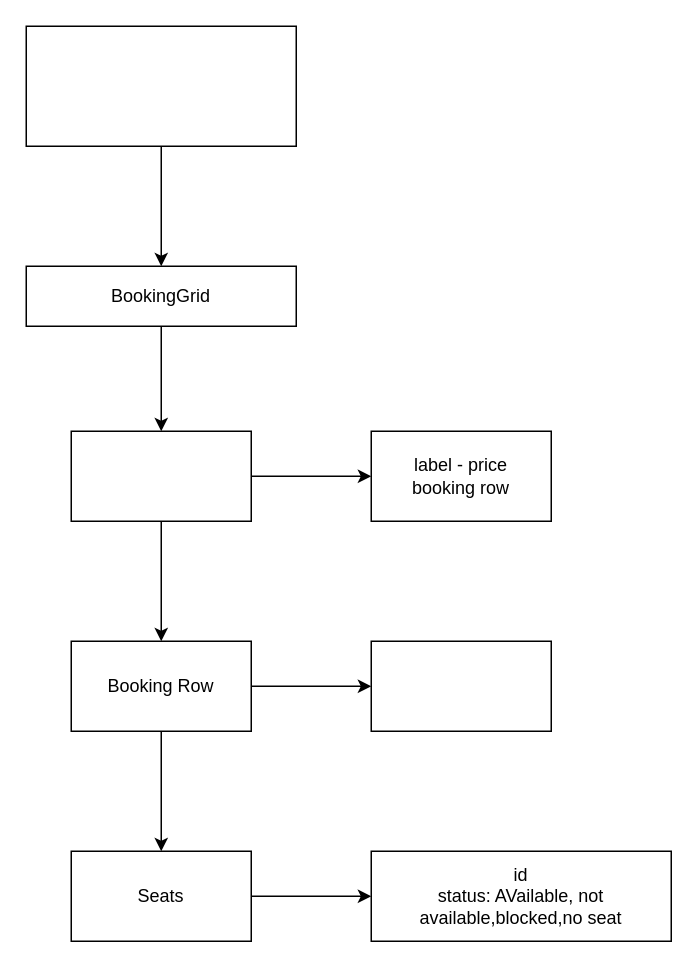
This 698x968 diagram has some shape labels left out. Each missing label, with the box of its shape:
Booking Group: (70, 430, 251, 521)
BookMyShow Layout: (25, 25, 296, 146)
Label (A-Z) Seats: (370, 640, 551, 731)
